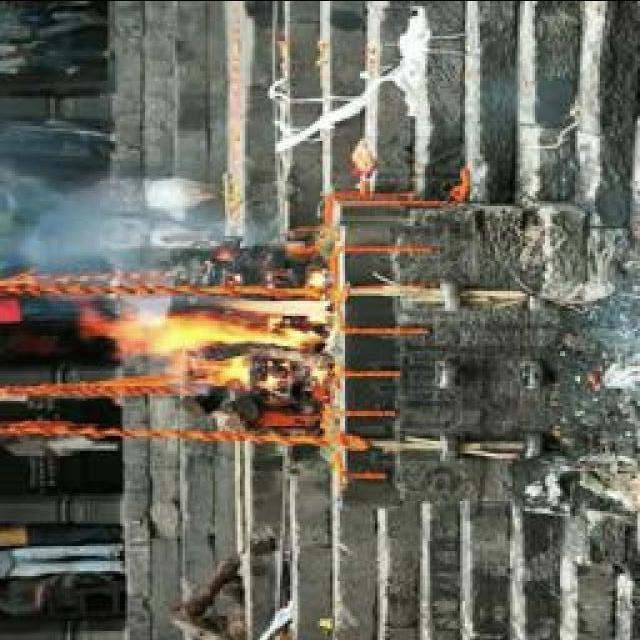Fire: (108, 293, 333, 391)
